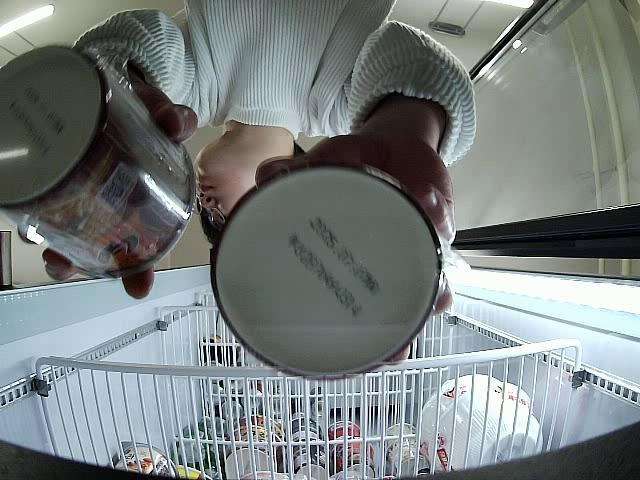00_hand: (255, 131, 455, 366), (19, 84, 197, 300)
06_nuguri_S: (209, 163, 443, 381), (0, 43, 199, 276)
